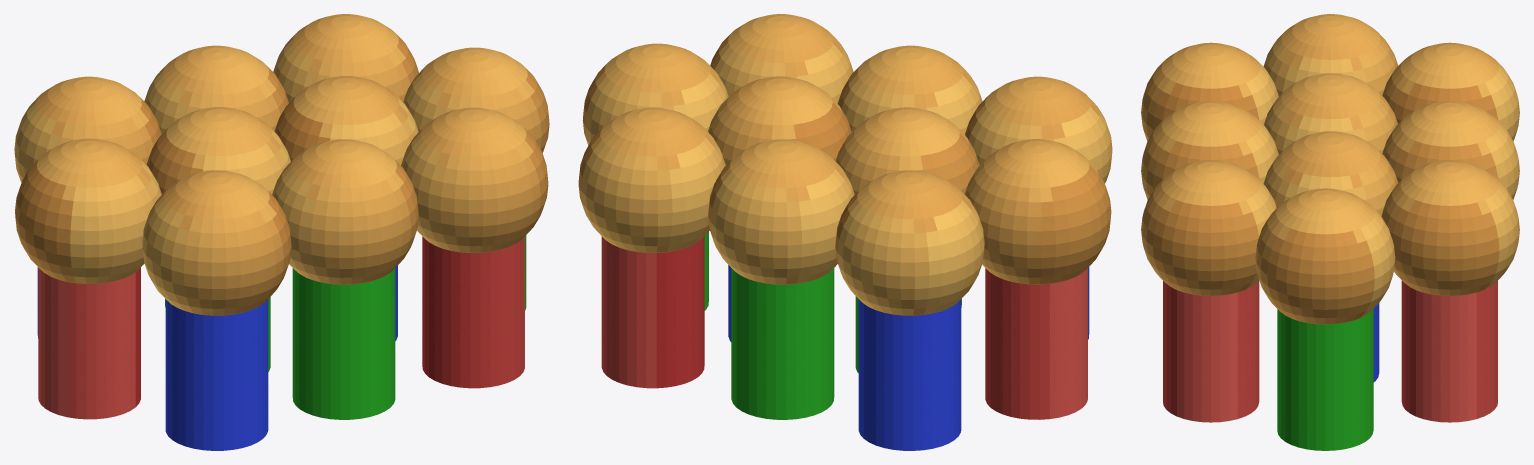
Rendered from Crowd.glb.
3 renders of one model, left to right at view 1: azimuth 30°, elevation 25°; view 2: azimuth 150°, elevation 25°; view 3: azimuth 270°, elevation 25°, orthographic. The views are drawn at different scales.
Parts seen in each view (by area): view 1: Sphere.006; view 2: Sphere.006; view 3: Sphere.006.
Part boxes in pixels (<box>): Sphere.006: <box>14,14,549,450</box>; Sphere.006: <box>578,14,1112,450</box>; Sphere.006: <box>1141,14,1519,450</box>.
Bounding box in the file's own units: 0.6987 × 0.3289 × 0.4791.
Materials: 1 (1 with a texture image).
